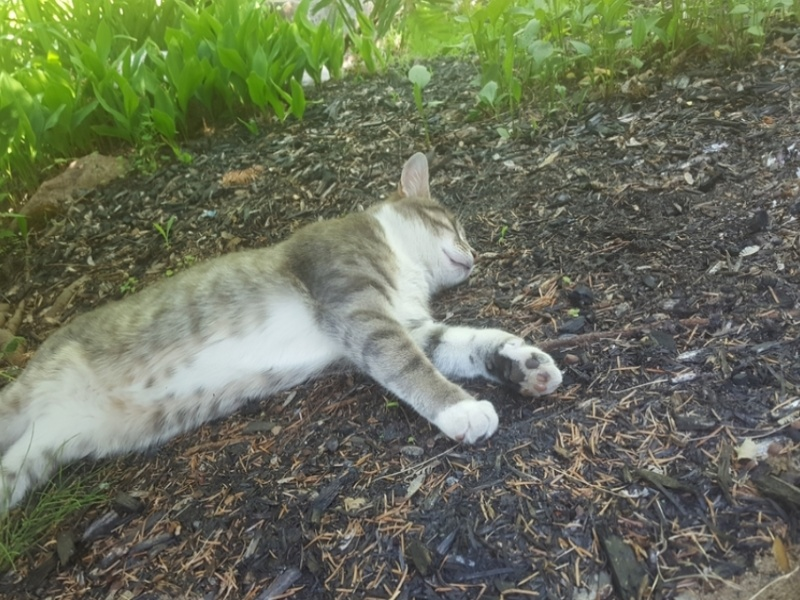cat: (3, 149, 565, 524)
